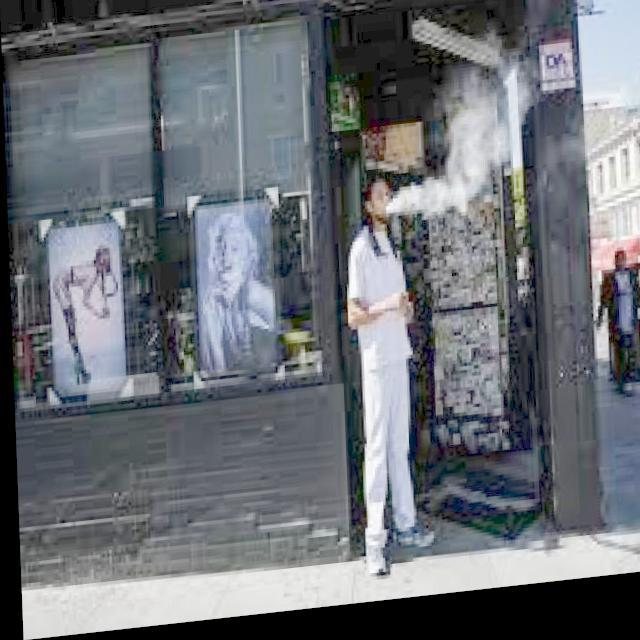Smoke: (380, 55, 556, 235)
